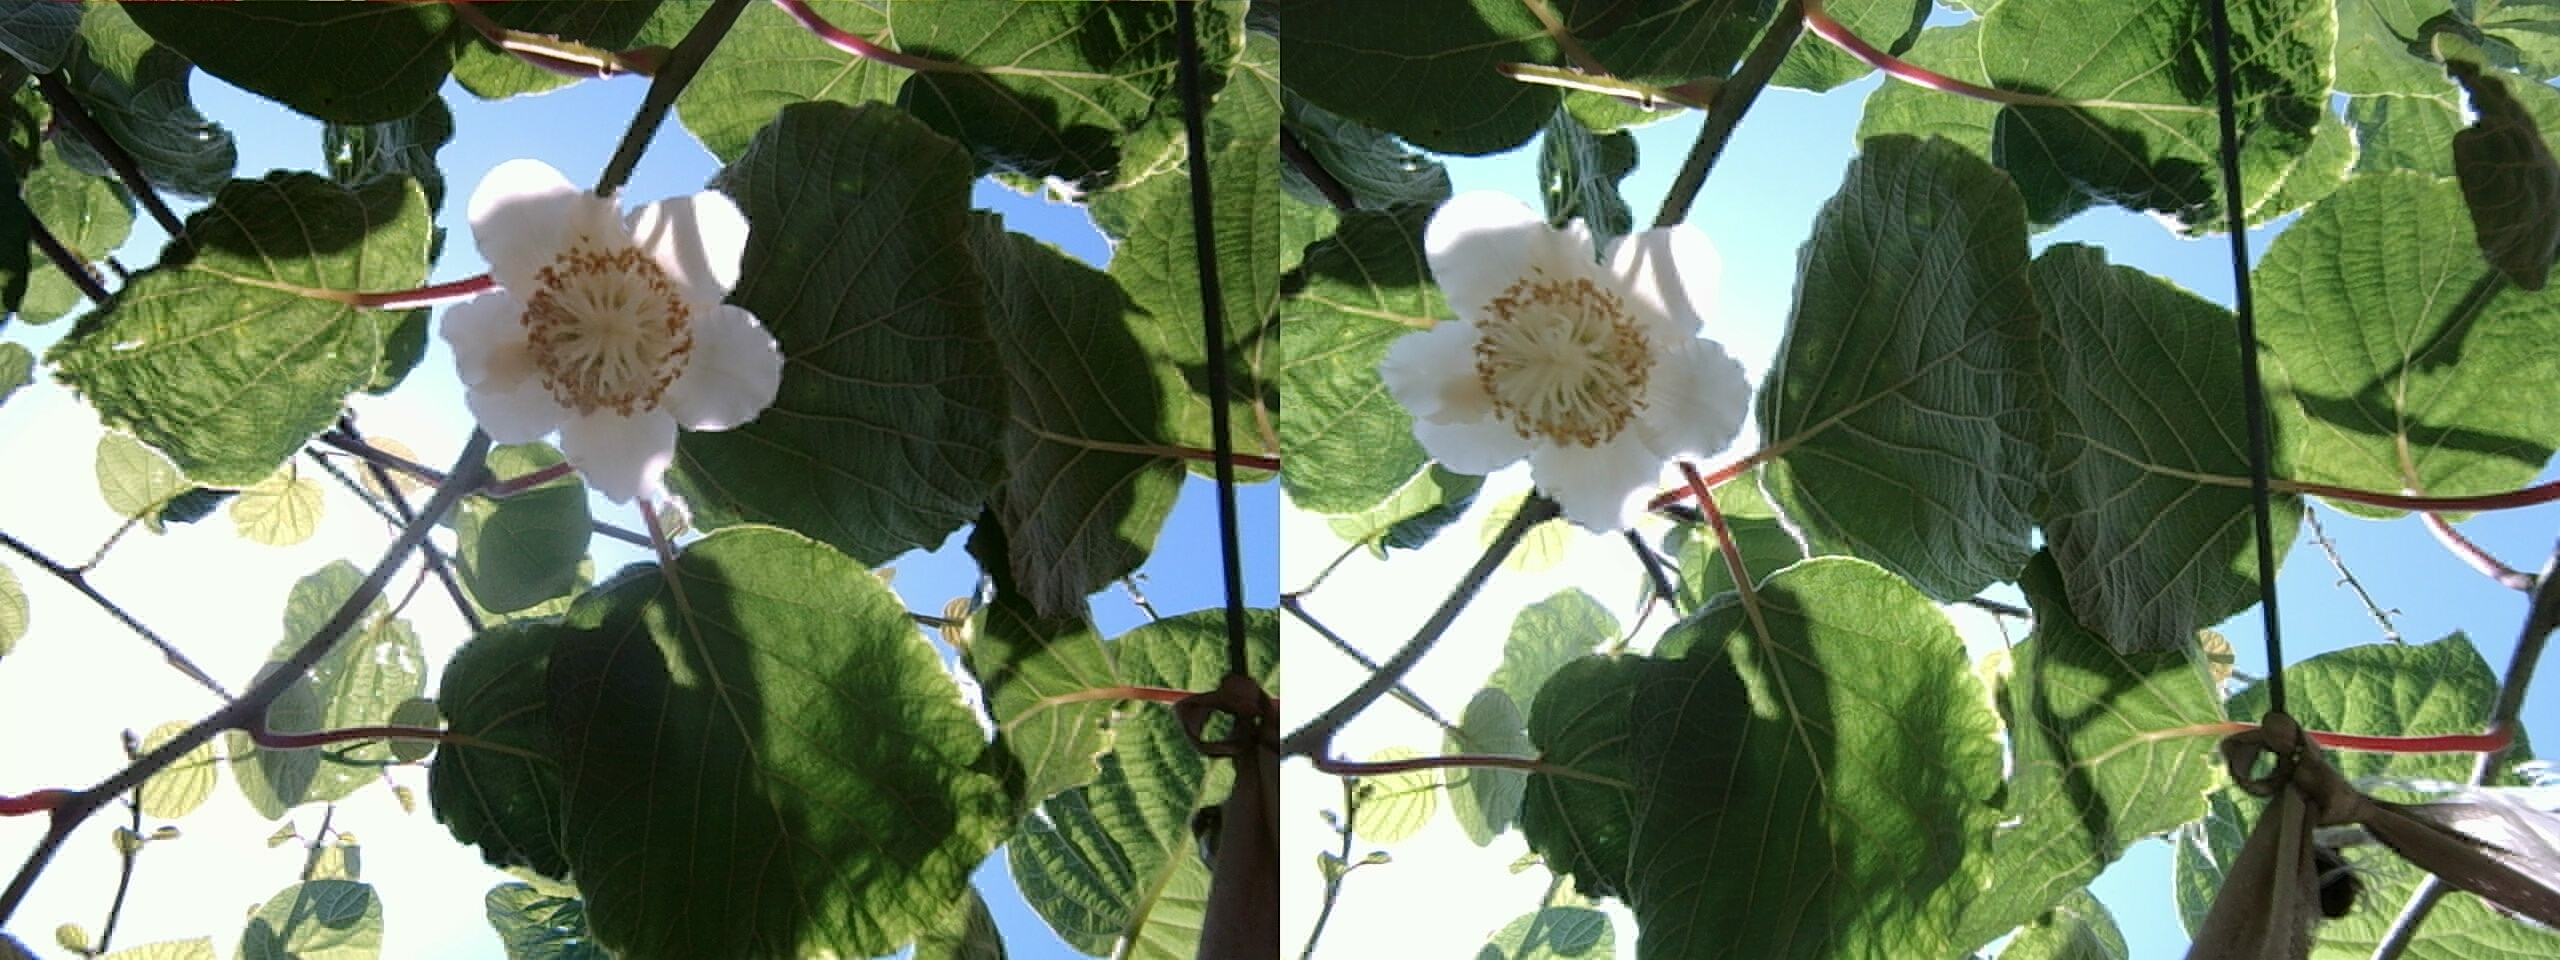flower: (1394, 206, 1736, 513), (444, 168, 756, 498)
